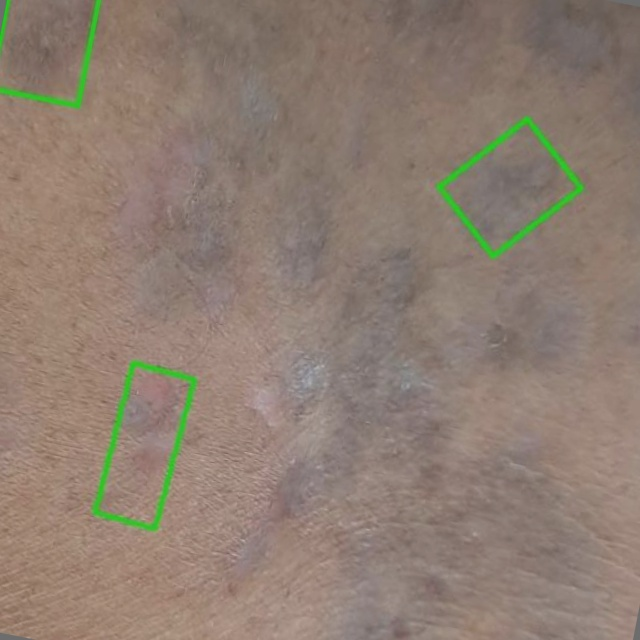Contact Dermatitis: (439, 119, 581, 256), (94, 364, 194, 529)
